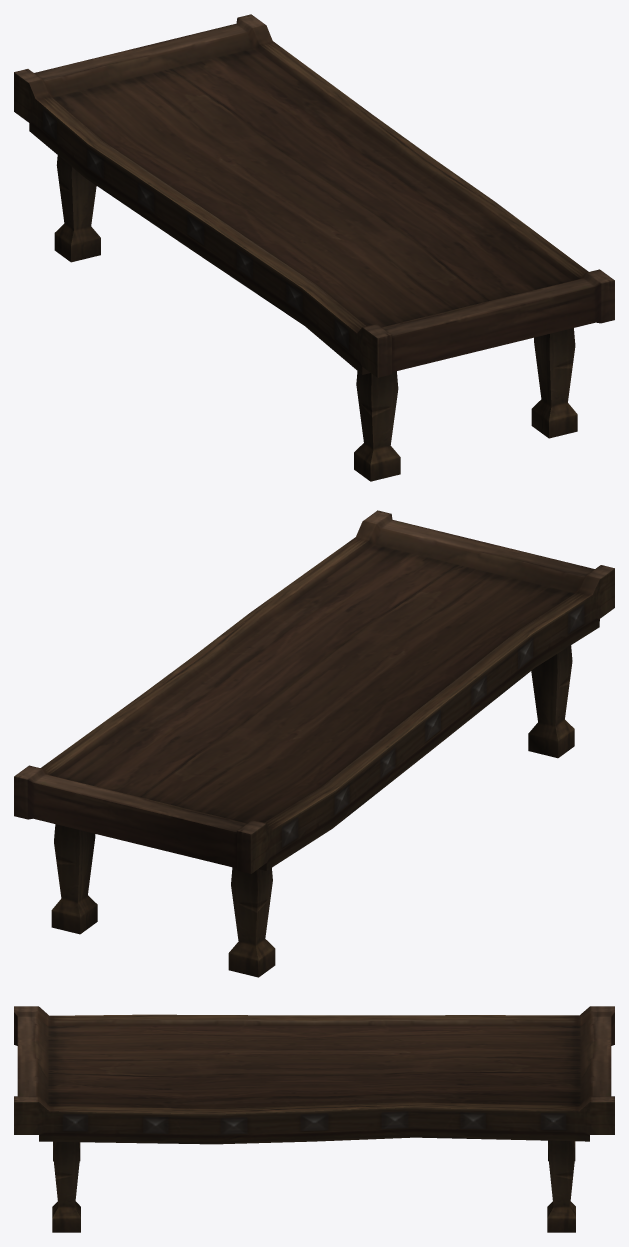
The model's file is muzhuoB_01.FBX.
3 views of the same model, one above another, from view 1: azimuth 30°, elevation 25°; view 2: azimuth 150°, elevation 25°; view 3: azimuth 270°, elevation 25° (orthographic). The views are drawn at different scales.
Visible parts, largest first — view 1: muzhuoB_01; view 2: muzhuoB_01; view 3: muzhuoB_01.
Boxes of the visible parts, left/top/right/bottom form: muzhuoB_01: left=14, top=14, right=614, bottom=481; muzhuoB_01: left=14, top=510, right=614, bottom=977; muzhuoB_01: left=14, top=1006, right=614, bottom=1232.
Bounding box in the file's own units: 1.99 × 1.27 × 5.1.
